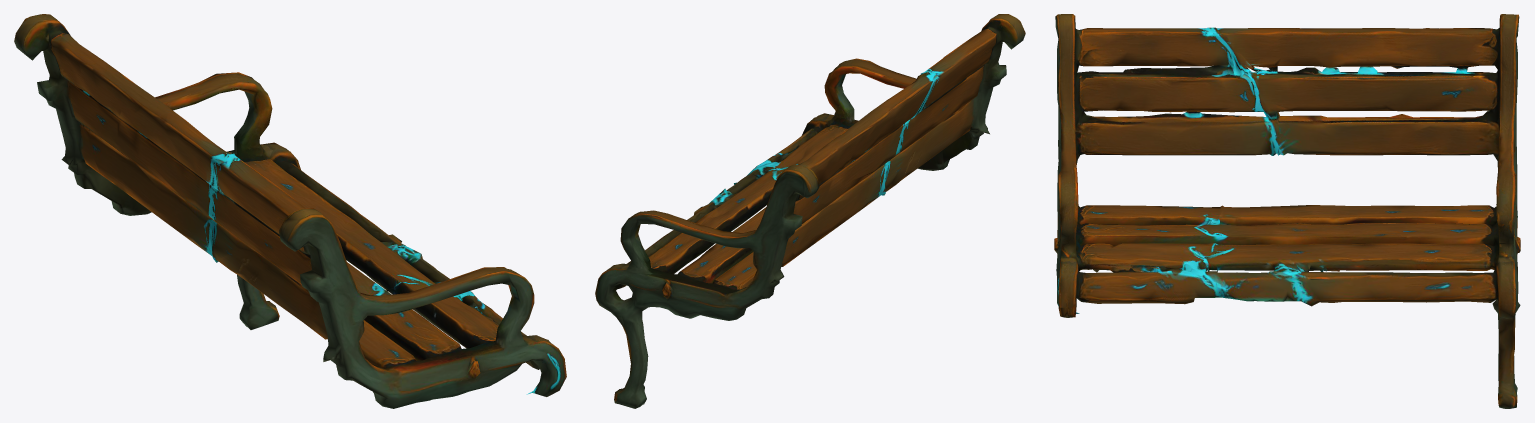
The model's file is floating+bench+3d+model.fbx.
3 views of the same model, side by side, from view 1: azimuth 30°, elevation 25°; view 2: azimuth 150°, elevation 25°; view 3: azimuth 270°, elevation 25° (orthographic). The views are drawn at different scales.
Parts seen in each view (by area): view 1: tripo_node_f7c15350; view 2: tripo_node_f7c15350; view 3: tripo_node_f7c15350.
Boxes of the visible parts, x1,y1,x2,y2 form: tripo_node_f7c15350: [14, 14, 566, 408]; tripo_node_f7c15350: [595, 14, 1025, 408]; tripo_node_f7c15350: [1054, 14, 1520, 408].
Size of the model in its own units: 0.577 by 0.7068 by 0.9986.
1 material, 1 textured.
